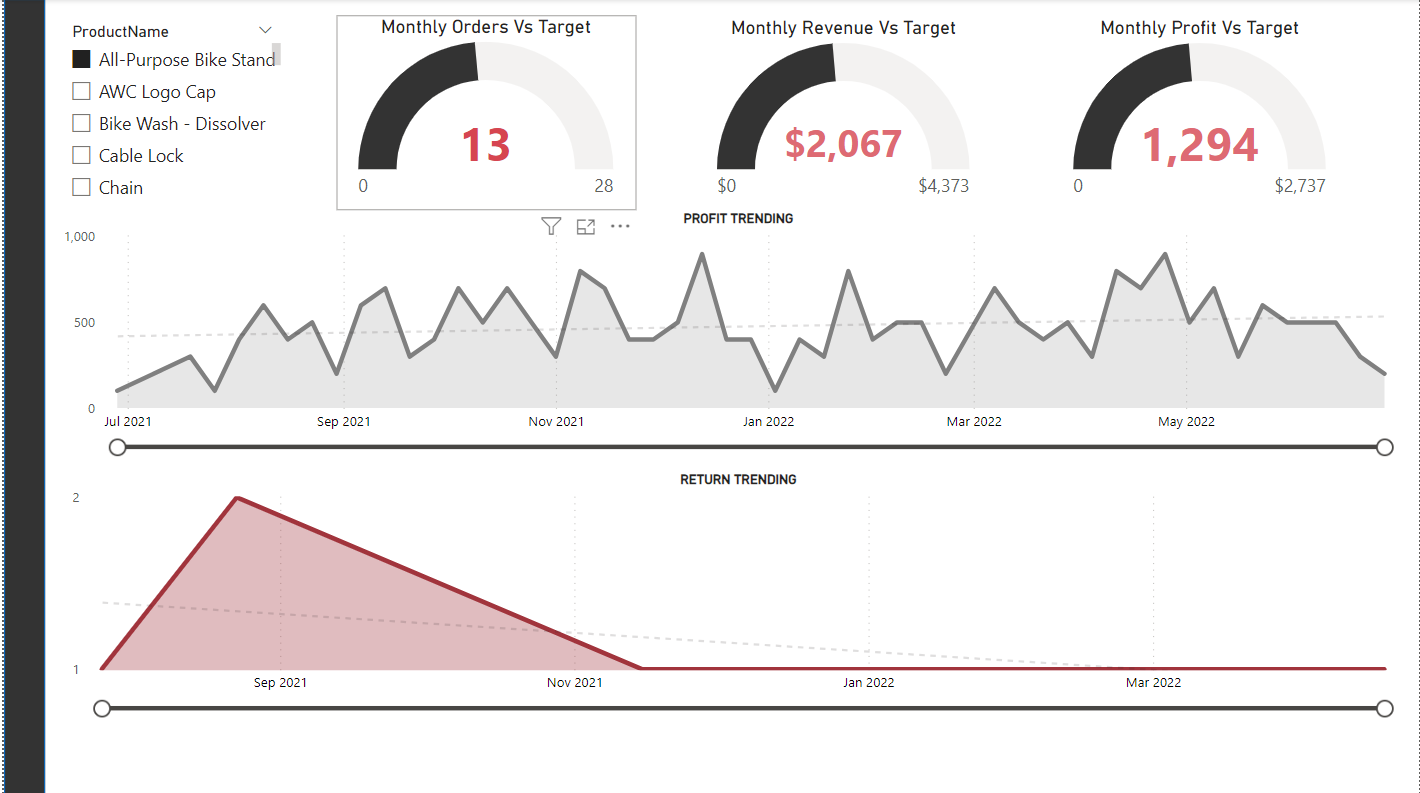

Layout of this report page (visuals, bound fields, positions):
{"tool":"powerbi","page":{"name":"PRODUCT DETAIL","canvas":[1280,720],"ordinal":2},"visuals":[{"type":"shape","box":[0,0,37.2,719.8],"z":0},{"type":"slicer","fields":{"Values":["Product Lookup.ProductName"]},"box":[48.8,15.9,206.7,176.1],"z":1000},{"type":"gauge","title":"Monthly Orders Vs Target","fields":{"Y":["Measure Table.Total Order"],"MaxValue":["Measure Table.Order Target"]},"box":[301,14.8,270.4,176.1],"z":2000},{"type":"gauge","title":"Monthly Profit Vs Target","fields":{"Y":["Measure Table.Total Profit"],"MaxValue":["Measure Table.Profit Target"]},"box":[946.3,15.9,270.4,174.9],"z":3000},{"type":"gauge","title":"Monthly Revenue Vs Target","fields":{"Y":["Measure Table.Total Revenue"],"MaxValue":["Measure Table.Target Revenue"]},"box":[623.6,15.9,270.4,174.9],"z":4000},{"type":"areaChart","title":"                              PROFIT TRENDING","fields":{"Category":["Calendar Lookup.DateHierarchy.Start of Year","Calendar Lookup.DateHierarchy.Start of Quarter","Calendar Lookup.DateHierarchy.Start of Month","Calendar Lookup.DateHierarchy.Start of Week"],"Y":["Measure Table.Total Profit"]},"box":[48.6,191,1230.9,224.9],"z":5000},{"type":"areaChart","title":"                             RETURN TRENDING","fields":{"Category":["Calendar Lookup.Start of Week"],"Y":["Measure Table.Total Returns"]},"box":[48.6,427.3,1230.9,224.9],"z":6000}]}

Visuals, with their boxes on the page's 1280x720 design canvas (x1, y1, x2, y2). These are canvas units, not pixel positions in the 1420x793 screenshot, which may show the page scaled, cropped or inside an application window:
shape: 0/0/37/720
slicer - Product Lookup.ProductName: 49/16/256/192
"Monthly Orders Vs Target" gauge: 301/15/571/191
"Monthly Profit Vs Target" gauge: 946/16/1217/191
"Monthly Revenue Vs Target" gauge: 624/16/894/191
"                              PROFIT TRENDING" areaChart: 49/191/1280/416
"                             RETURN TRENDING" areaChart: 49/427/1280/652
